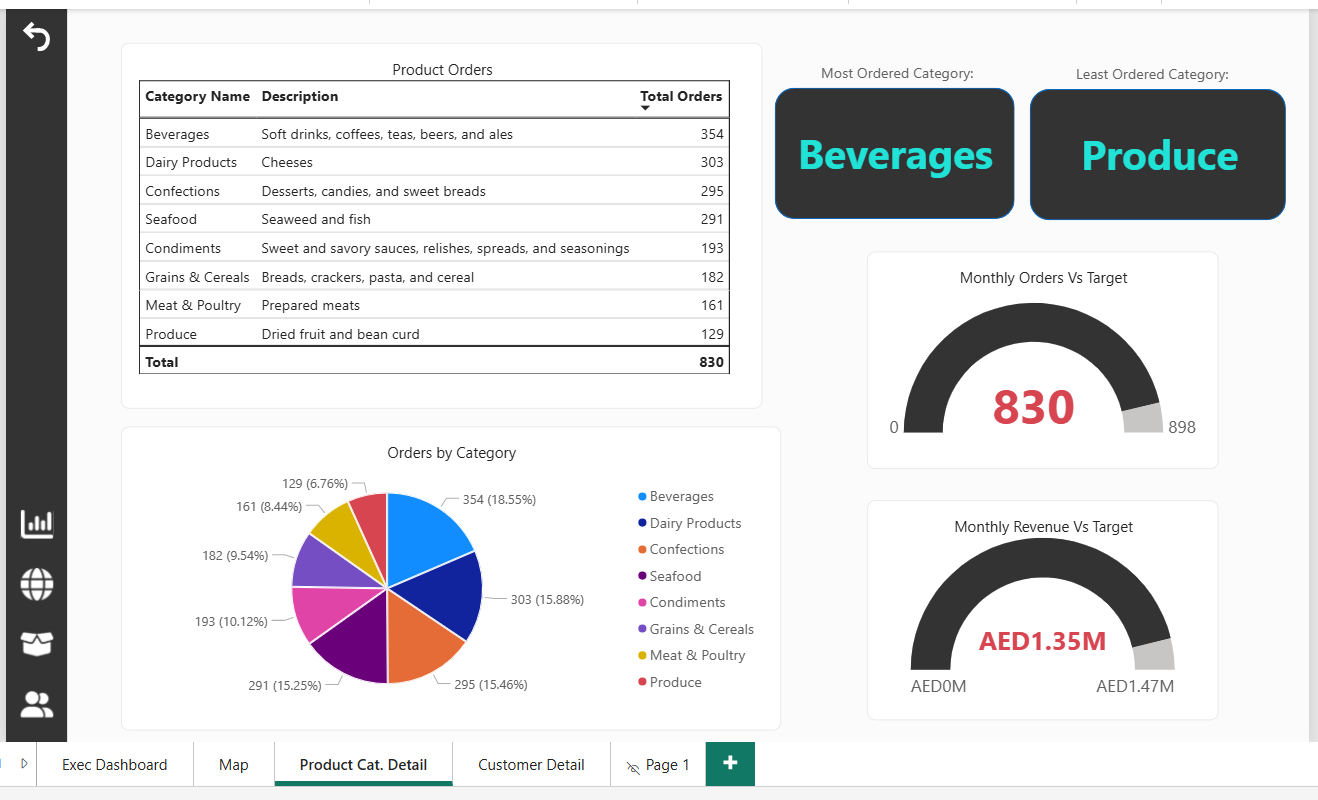

The dashboard page shown, as its layout file describes it:
{"tool":"powerbi","page":{"name":"Product Cat. Detail","canvas":[1280,720],"ordinal":2},"visuals":[{"type":"shape","box":[0,0,60.1,720.2],"z":0},{"type":"group","id":"g1","title":"Navigation","box":[0,481,60.1,227],"z":1000},{"type":"actionButton","box":[0,481,60.1,50.3],"z":1000,"group":"g1"},{"type":"tableEx","title":"Product Orders","fields":{"Values":["categories.Category Name","categories.description","Measure Table.Total Orders"]},"box":[112.9,33.1,629.5,359.5],"z":2000},{"type":"actionButton","box":[0,539.9,60.1,50.3],"z":2000,"group":"g1"},{"type":"shape","box":[754.6,77.3,235.6,128.8],"z":3000},{"type":"actionButton","box":[0,598.8,60.1,50.3],"z":3000,"group":"g1"},{"type":"card","fields":{"Values":["Min(categories.Category Name)"]},"box":[755.8,77.3,234.4,128.8],"z":4000},{"type":"actionButton","box":[0,657.7,60.1,50.3],"z":4000,"group":"g1"},{"type":"textbox","box":[799.5,52.5,162,25.8],"z":5000},{"type":"shape","box":[1005.4,79,251.5,128.8],"z":6000},{"type":"card","fields":{"Values":["Min(categories.Category Name)"]},"box":[1005.8,78.8,252.5,128.8],"z":7000},{"type":"textbox","box":[1050,53.7,162,25.8],"z":8000},{"type":"pieChart","title":"Orders by Category","fields":{"Category":["categories.Category Name"],"Y":["Measure Table.Total Orders"]},"box":[112.9,409.8,647.9,298.2],"z":9000},{"type":"gauge","title":"Monthly Orders Vs Target","fields":{"MaxValue":["Measure Table.Order Target"],"Y":["Measure Table.Total Orders"]},"box":[845.4,238,344.8,213.5],"z":10000},{"type":"gauge","title":"Monthly Revenue Vs Target","fields":{"MaxValue":["Measure Table.Revenue Target"],"Y":["Measure Table.Total Revenue"]},"box":[845.4,482.2,344.8,216],"z":11000},{"type":"actionButton","box":[0,6.1,60.1,40.5],"z":11001}]}

Visuals, with their boxes on the page's 1280x720 design canvas (x1, y1, x2, y2). These are canvas units, not pixel positions in the 1318x800 screenshot, which may show the page scaled, cropped or inside an application window:
shape: pyautogui.locateOnScreen(0, 0, 60, 720)
"Navigation" group: pyautogui.locateOnScreen(0, 481, 60, 708)
actionButton: pyautogui.locateOnScreen(0, 481, 60, 531)
"Product Orders" tableEx: pyautogui.locateOnScreen(113, 33, 742, 393)
actionButton: pyautogui.locateOnScreen(0, 540, 60, 590)
shape: pyautogui.locateOnScreen(755, 77, 990, 206)
actionButton: pyautogui.locateOnScreen(0, 599, 60, 649)
card - Min(categories.Category Name): pyautogui.locateOnScreen(756, 77, 990, 206)
actionButton: pyautogui.locateOnScreen(0, 658, 60, 708)
textbox: pyautogui.locateOnScreen(800, 52, 962, 78)
shape: pyautogui.locateOnScreen(1005, 79, 1257, 208)
card - Min(categories.Category Name): pyautogui.locateOnScreen(1006, 79, 1258, 208)
textbox: pyautogui.locateOnScreen(1050, 54, 1212, 80)
"Orders by Category" pieChart: pyautogui.locateOnScreen(113, 410, 761, 708)
"Monthly Orders Vs Target" gauge: pyautogui.locateOnScreen(845, 238, 1190, 452)
"Monthly Revenue Vs Target" gauge: pyautogui.locateOnScreen(845, 482, 1190, 698)
actionButton: pyautogui.locateOnScreen(0, 6, 60, 47)
